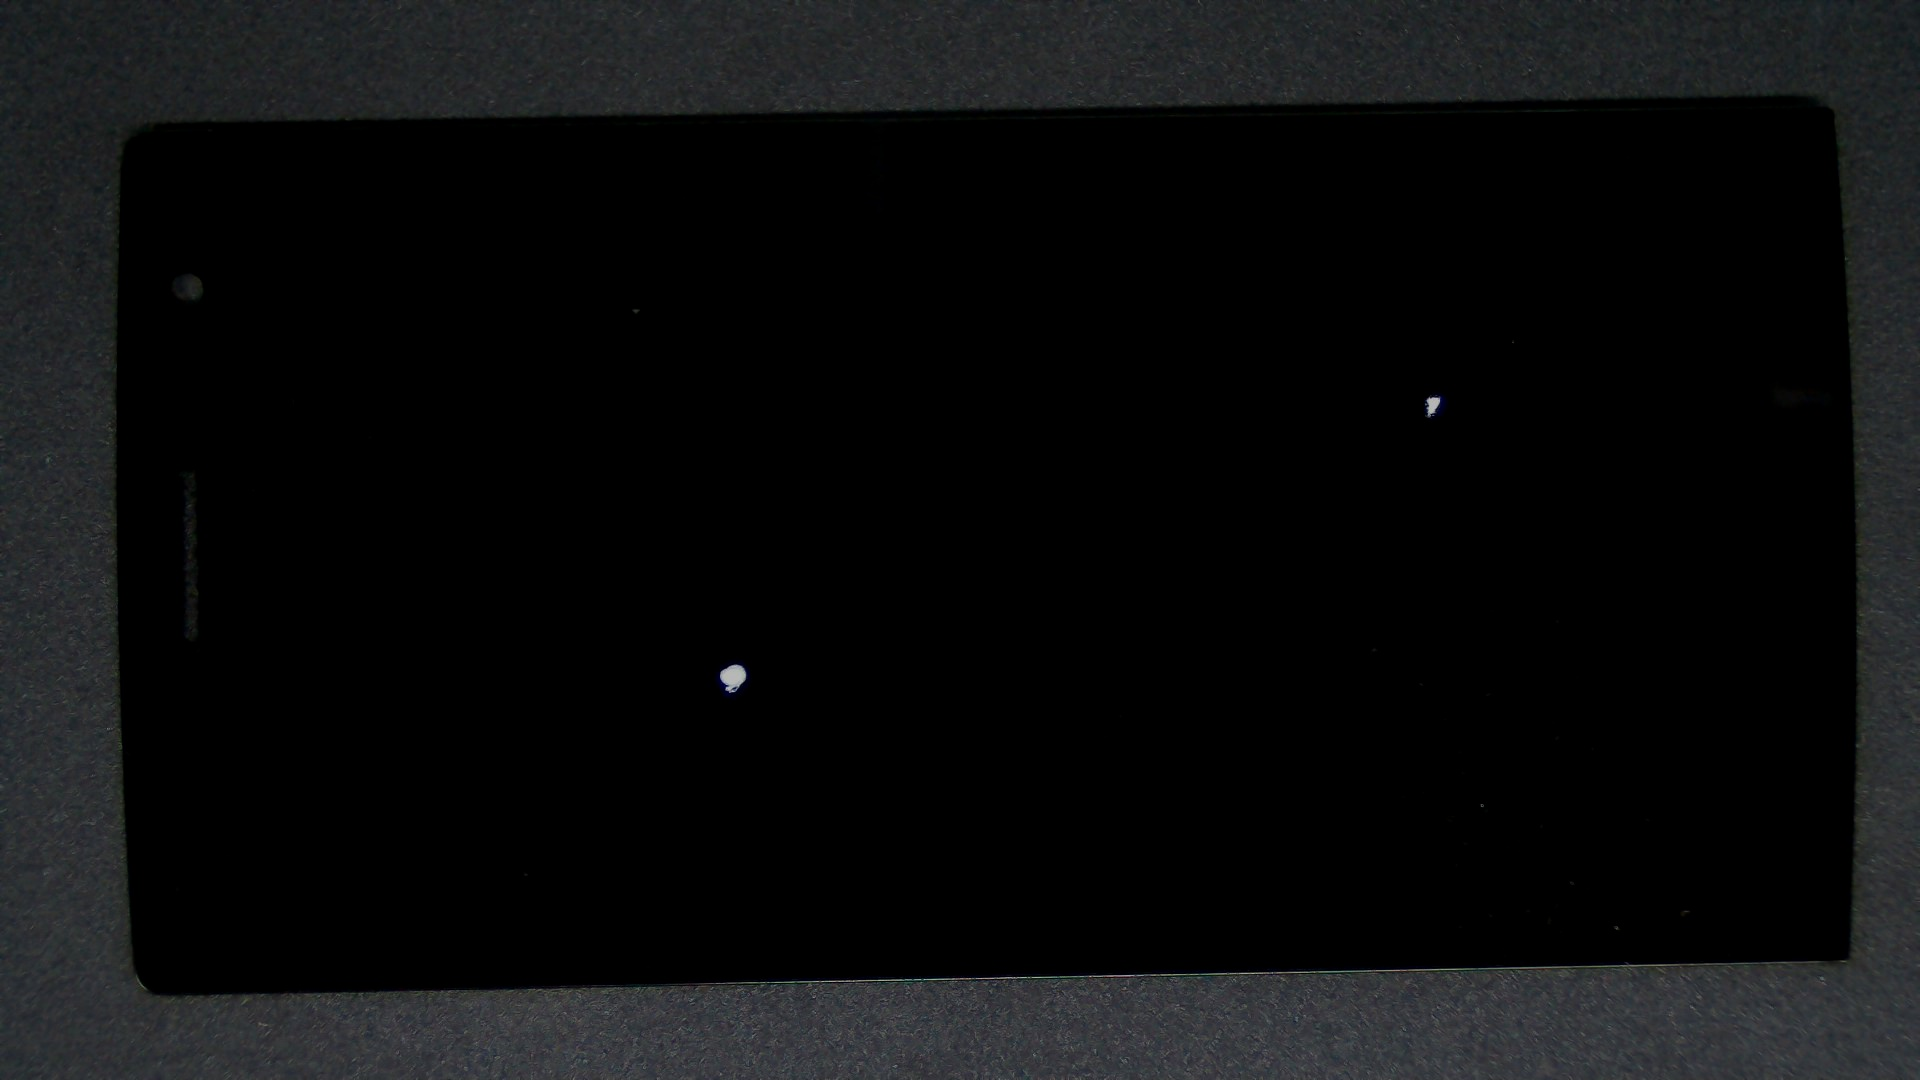oil: (368, 331, 1102, 993), (716, 195, 1920, 591)
